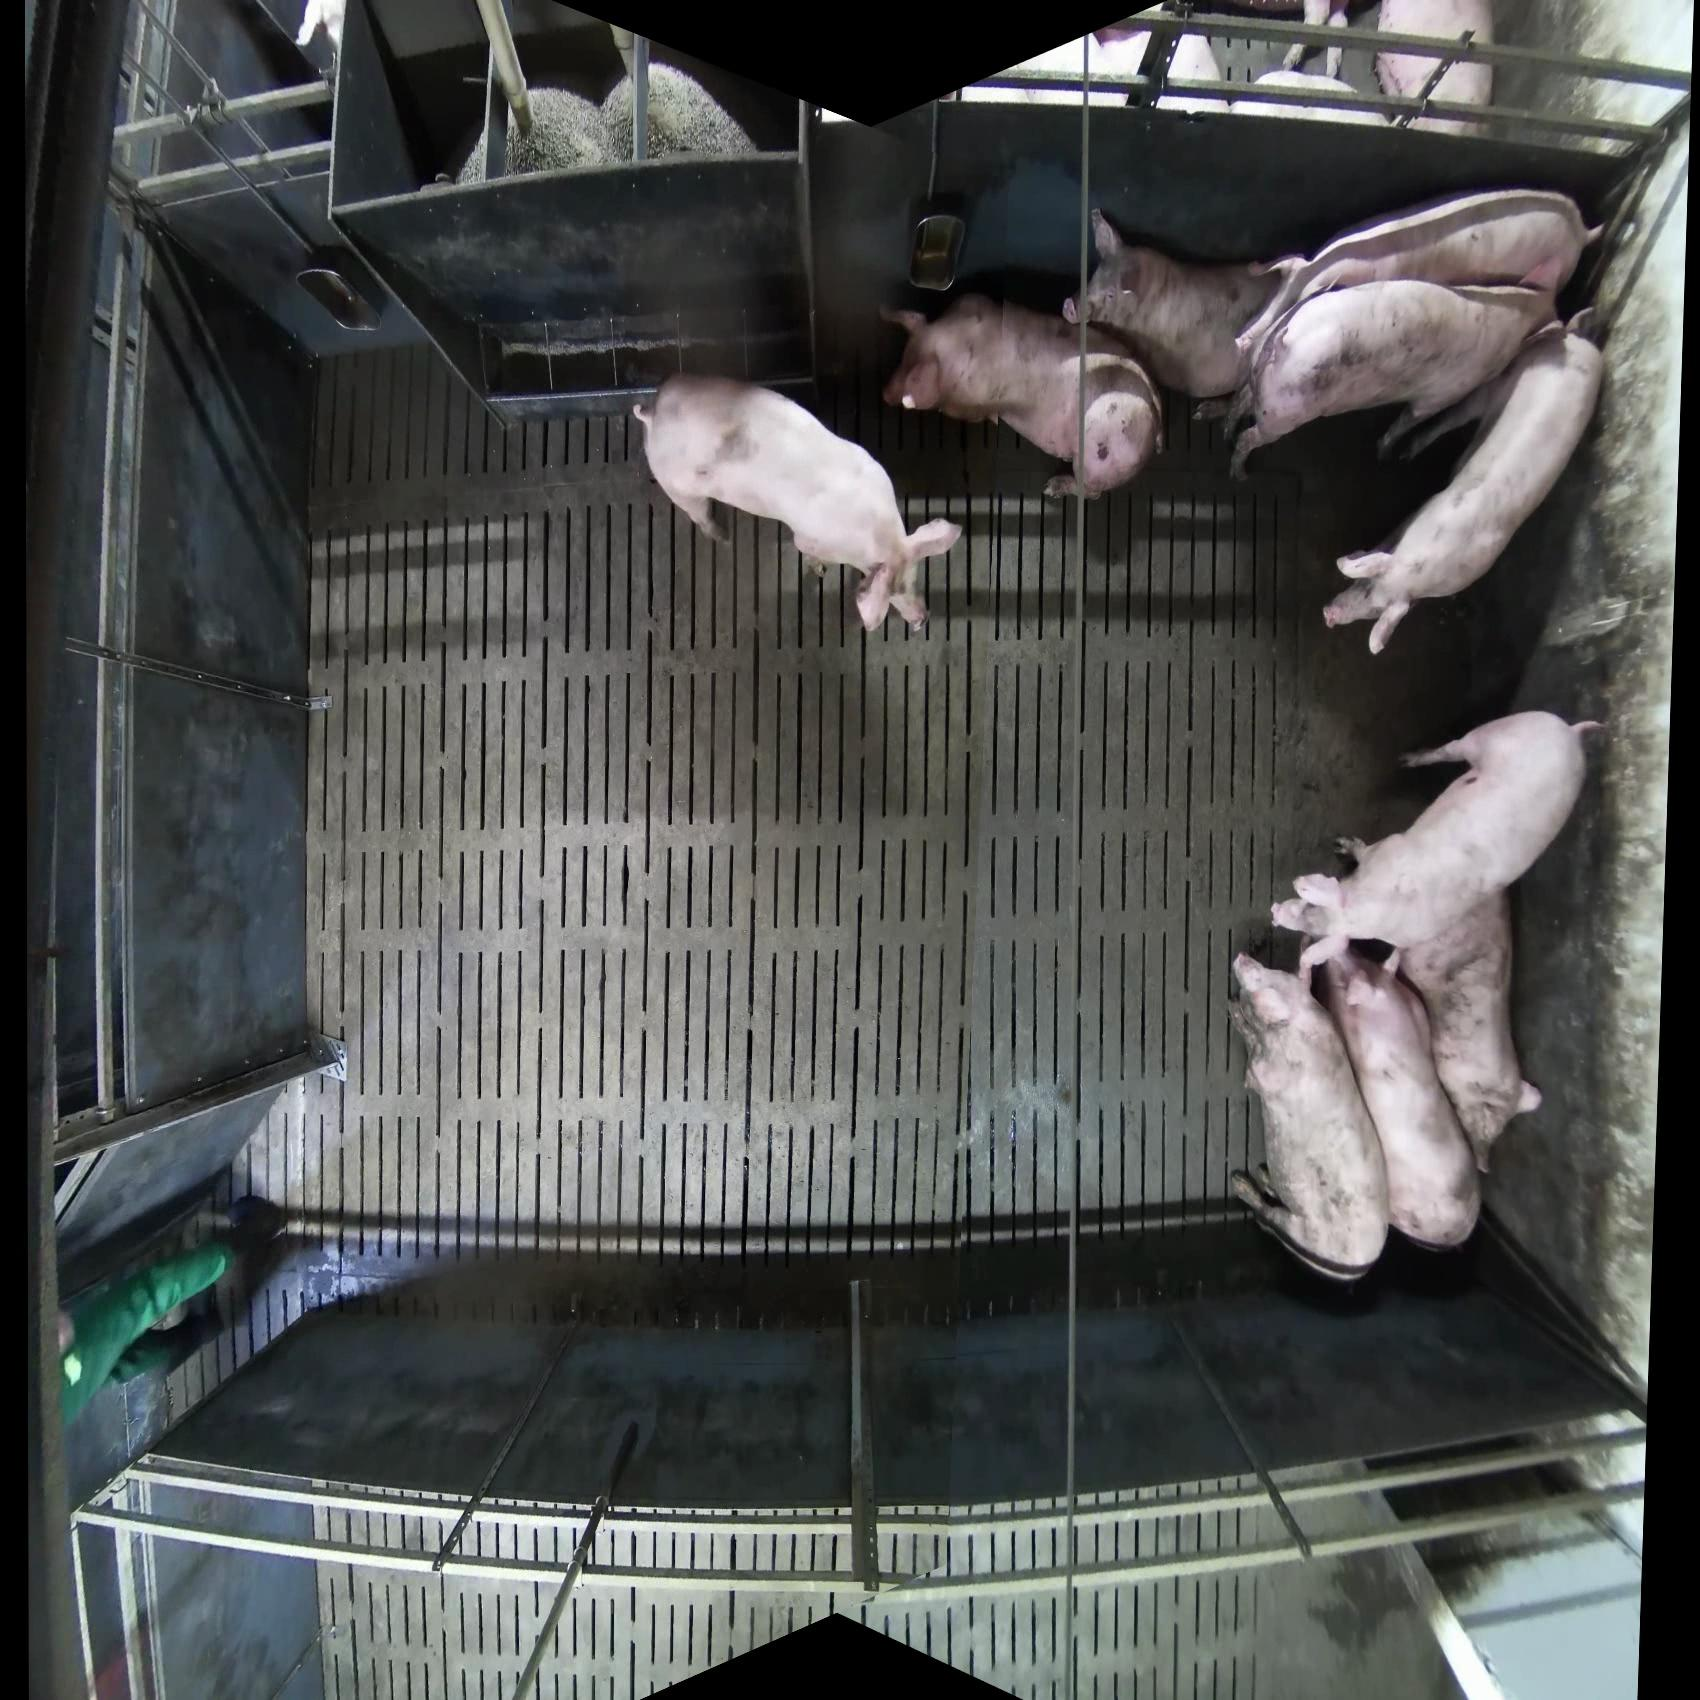pig: (1322, 308, 1608, 657), (1270, 708, 1605, 973), (630, 371, 964, 635), (1231, 185, 1602, 392), (1222, 277, 1563, 486), (876, 293, 1166, 501), (1224, 953, 1392, 1283), (1312, 943, 1485, 1252), (1062, 205, 1309, 409), (1389, 884, 1544, 1174), (1373, 2, 1498, 137), (1088, 23, 1228, 115), (1231, 68, 1376, 128), (1281, 2, 1356, 89)
